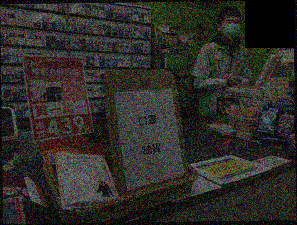with_mask: (222, 18, 241, 40)
